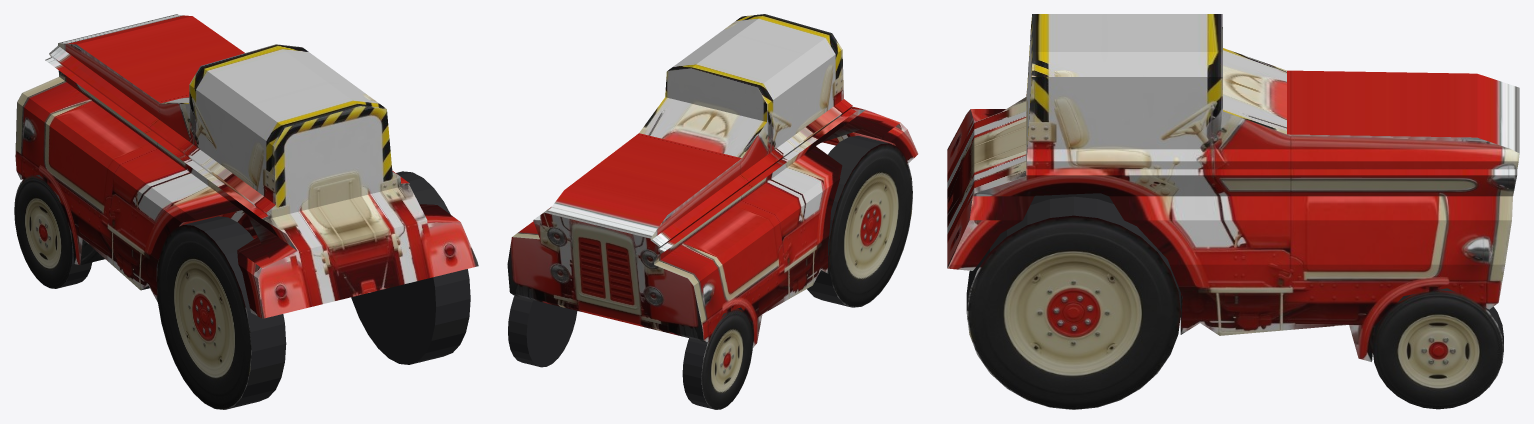
File: utility_tractor.glb
3 renders of one model, left to right at view 1: azimuth 30°, elevation 25°; view 2: azimuth 150°, elevation 25°; view 3: azimuth 270°, elevation 25°, orthographic. The views are drawn at different scales.
Visible parts, largest first — view 1: utility_tractor, wheel_BL, wheel_BR, wheel_FL; view 2: utility_tractor, wheel_BL, wheel_FL, wheel_FR; view 3: utility_tractor, wheel_BR, wheel_FR.
Boxes of the visible parts, left/top/right/bottom form: utility_tractor: left=15, top=14, right=478, bottom=318; wheel_BL: left=156, top=216, right=286, bottom=409; wheel_BR: left=351, top=171, right=470, bottom=364; wheel_FL: left=14, top=175, right=92, bottom=288; utility_tractor: left=507, top=14, right=918, bottom=347; wheel_BL: left=807, top=136, right=912, bottom=307; wheel_FL: left=682, top=309, right=752, bottom=409; wheel_FR: left=508, top=295, right=577, bottom=367; utility_tractor: left=947, top=14, right=1519, bottom=361; wheel_BR: left=966, top=196, right=1180, bottom=409; wheel_FR: left=1373, top=288, right=1503, bottom=409.
Size of the model in its own units: 1.98 by 2.4 by 3.97.
Materials: 3 (1 with a texture image).
